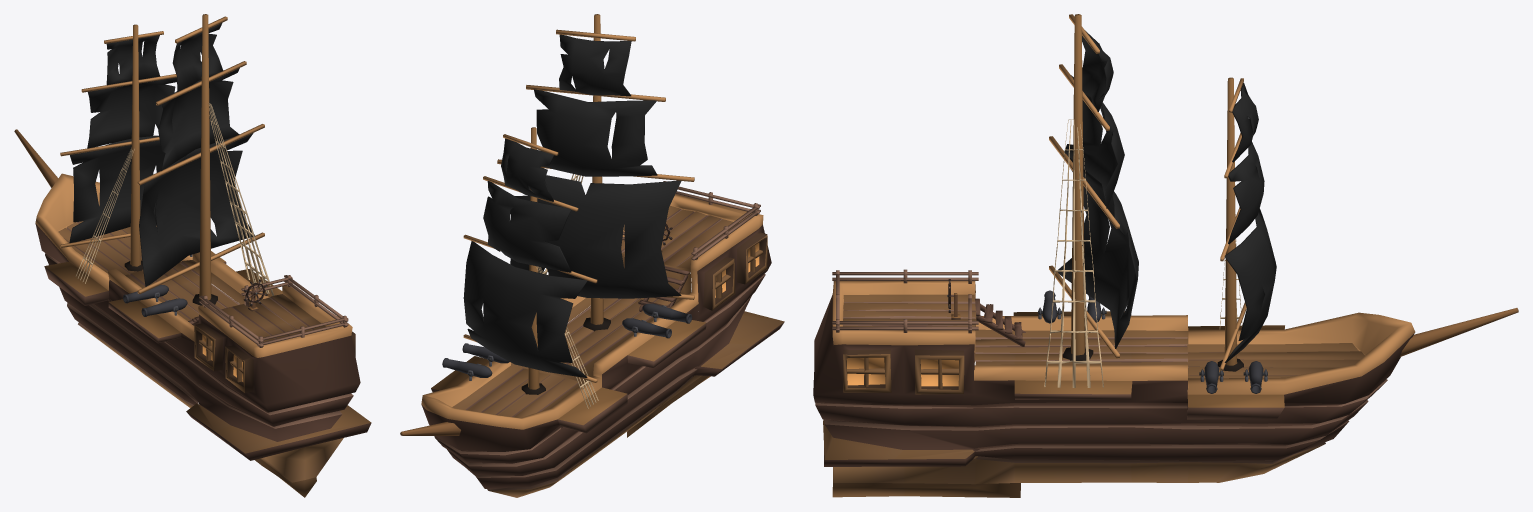
File: Ship_01.glb
3 views of the same model, side by side, from view 1: azimuth 30°, elevation 25°; view 2: azimuth 150°, elevation 25°; view 3: azimuth 270°, elevation 25° (orthographic). The views are drawn at different scales.
Parts seen in each view (by area): view 1: Ship_01; view 2: Ship_01; view 3: Ship_01.
Boxes of the visible parts, box(x1,y1,x2,y2) form: Ship_01: box(14, 14, 371, 497); Ship_01: box(400, 14, 784, 497); Ship_01: box(813, 14, 1518, 497).
Size of what is drawn, in the model's own units: 5.39 by 13.63 by 17.99.
Materials: 1 (1 with a texture image).
